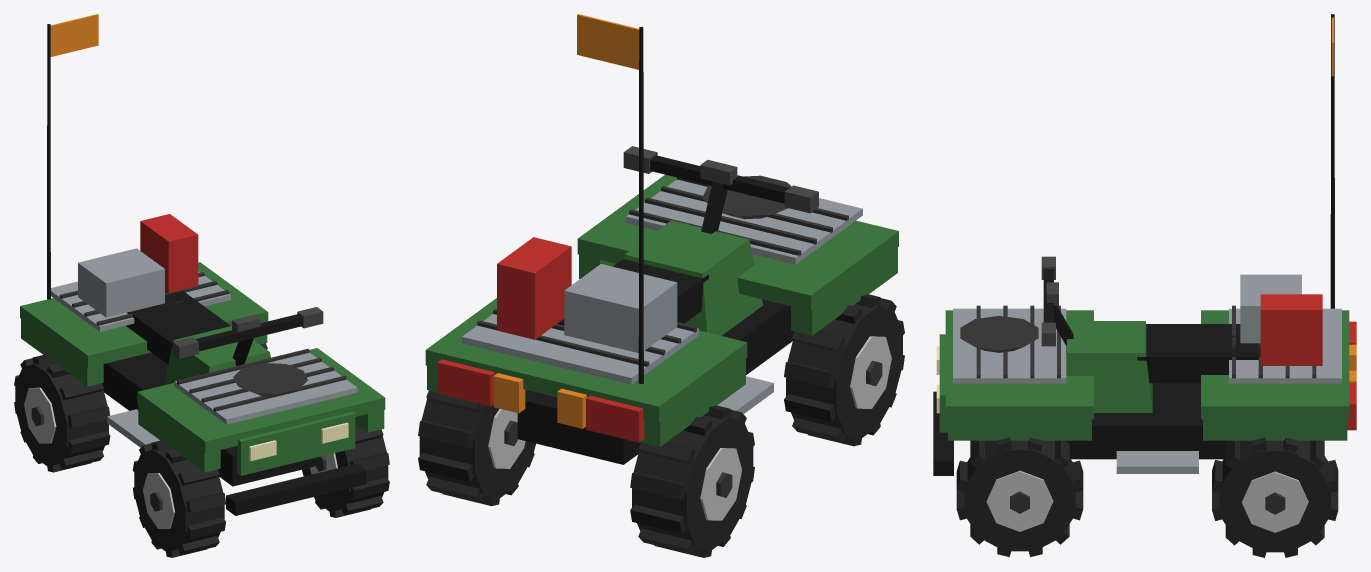
The model's file is Vehicle_Quad.fbx.
3 renders of one model, left to right at view 1: azimuth 30°, elevation 25°; view 2: azimuth 150°, elevation 25°; view 3: azimuth 270°, elevation 25°, orthographic. The views are drawn at different scales.
Parts seen in each view (by area): view 1: Vehicle_Quad, Vehicle_Quad_Wheel_RR, Vehicle_Quad_Wheel_FR, Vehicle_Quad_Wheel_FL; view 2: Vehicle_Quad, Vehicle_Quad_Wheel_RR, Vehicle_Quad_Wheel_FR, Vehicle_Quad_Wheel_RL; view 3: Vehicle_Quad, Vehicle_Quad_Wheel_RL, Vehicle_Quad_Wheel_FL.
Boxes of the visible parts, x1,y1,x2,y2 form: Vehicle_Quad: [20, 14, 385, 515]; Vehicle_Quad_Wheel_RR: [14, 355, 110, 472]; Vehicle_Quad_Wheel_FR: [132, 440, 225, 557]; Vehicle_Quad_Wheel_FL: [302, 423, 389, 517]; Vehicle_Quad: [425, 14, 898, 464]; Vehicle_Quad_Wheel_RR: [630, 405, 754, 557]; Vehicle_Quad_Wheel_FR: [784, 294, 904, 446]; Vehicle_Quad_Wheel_RL: [418, 389, 535, 506]; Vehicle_Quad: [933, 14, 1356, 475]; Vehicle_Quad_Wheel_RL: [1212, 437, 1338, 557]; Vehicle_Quad_Wheel_FL: [956, 437, 1083, 556].
Bounding box in the file's own units: 1.32 × 2.43 × 2.05.
